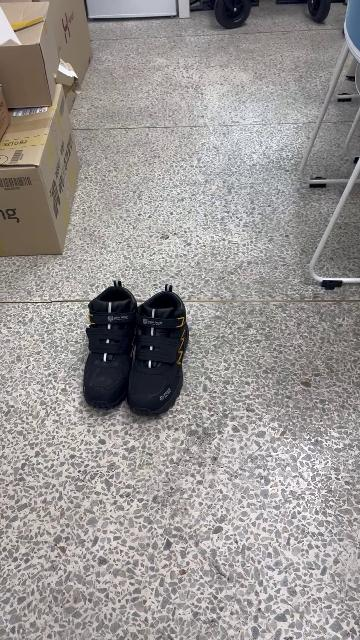shoe_worn: (84, 281, 138, 411), (133, 286, 187, 414)
